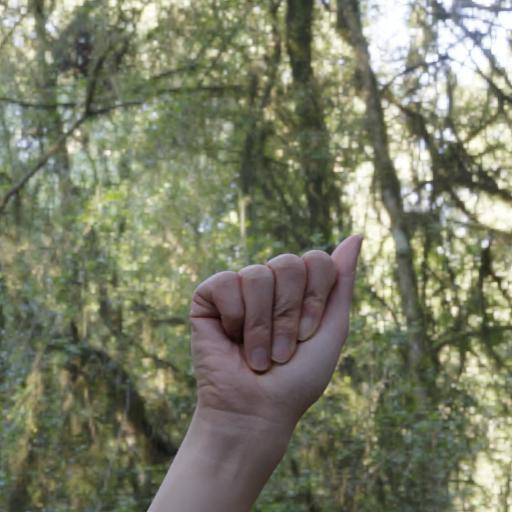A: (166, 218, 384, 482)
